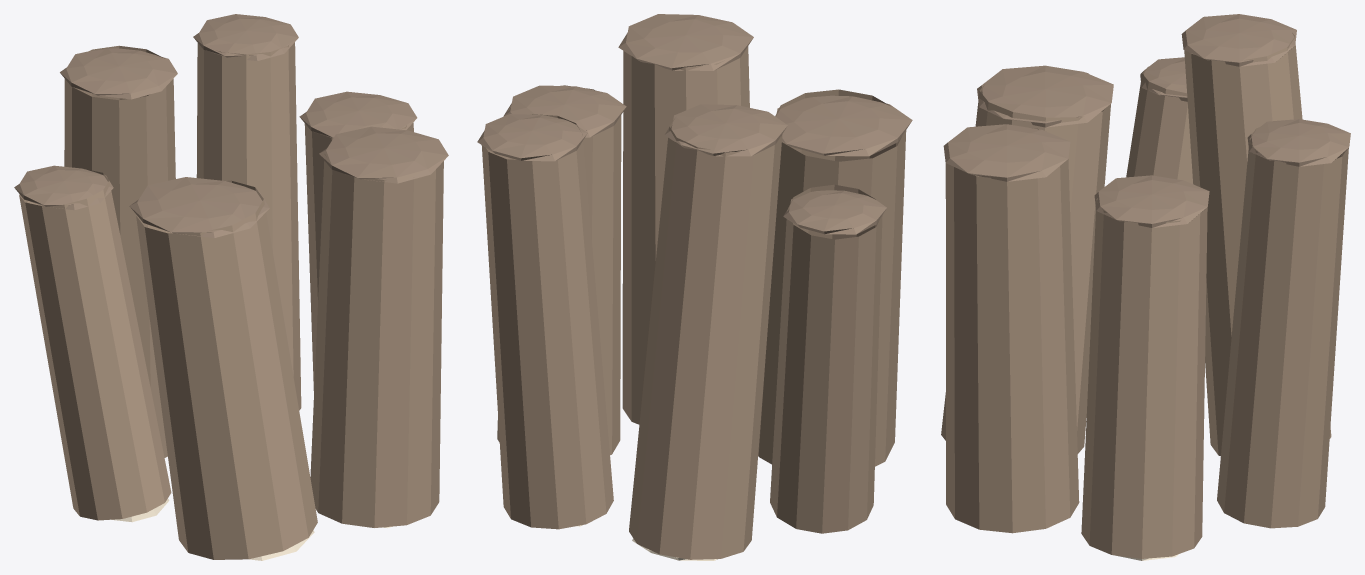
The model's file is kauri.glb.
3 renders of one model, left to right at view 1: azimuth 30°, elevation 25°; view 2: azimuth 150°, elevation 25°; view 3: azimuth 270°, elevation 25°, orthographic. The views are drawn at different scales.
Visible parts, largest first — view 1: kauri; view 2: kauri; view 3: kauri.
Boxes of the visible parts, x1=… form: kauri: x1=14, y1=14, x2=448, y2=560; kauri: x1=477, y1=14, x2=912, y2=560; kauri: x1=941, y1=14, x2=1350, y2=560.
Bounding box in the file's own units: 0.8411 × 0.8432 × 0.7694.
